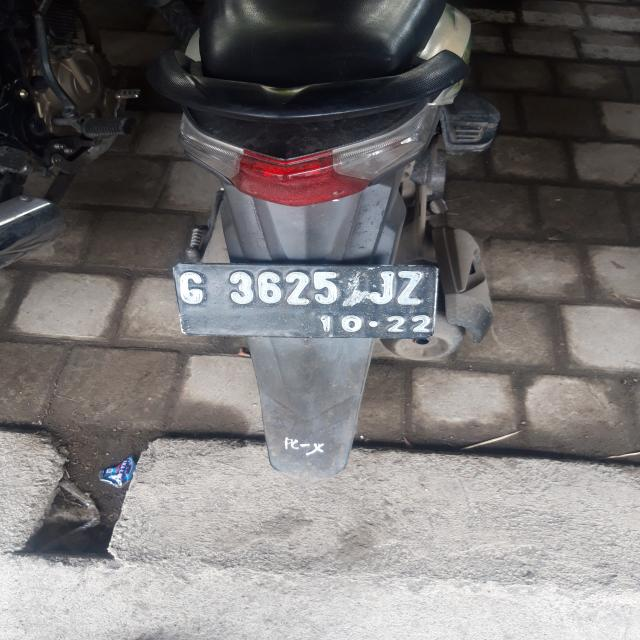plate: (174, 259, 436, 338)
